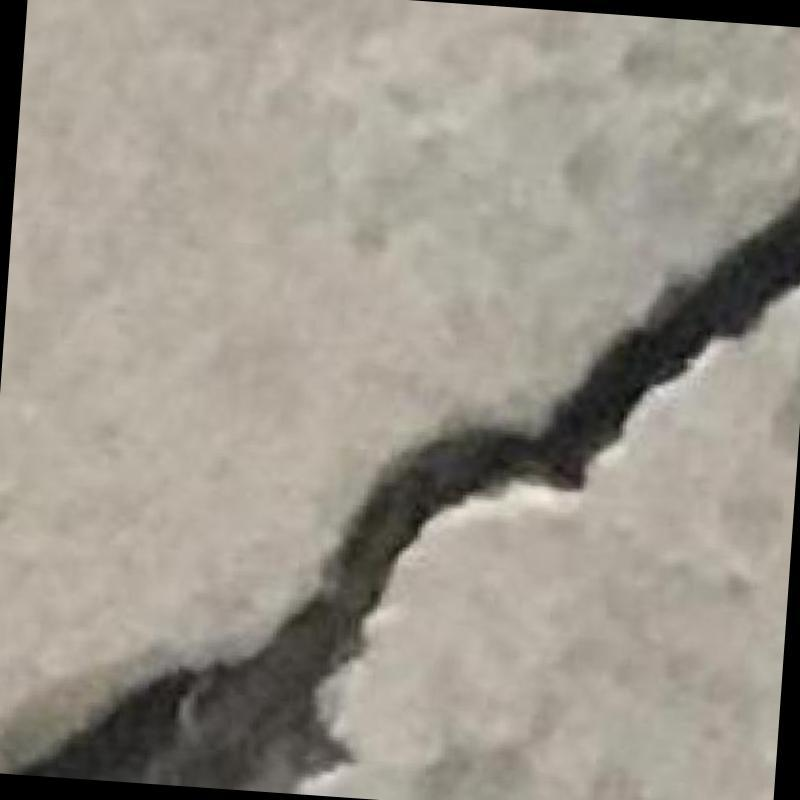pothole: (9, 196, 800, 792)
